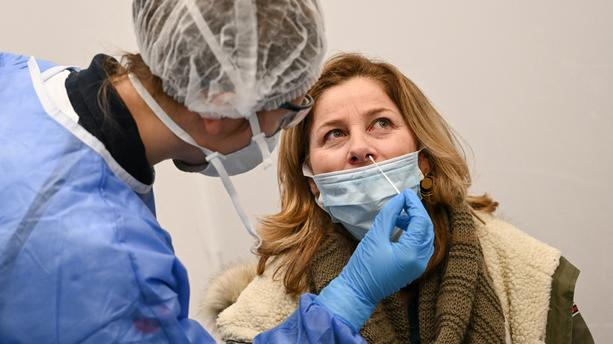with_incorrect_mask: (314, 100, 414, 206)
